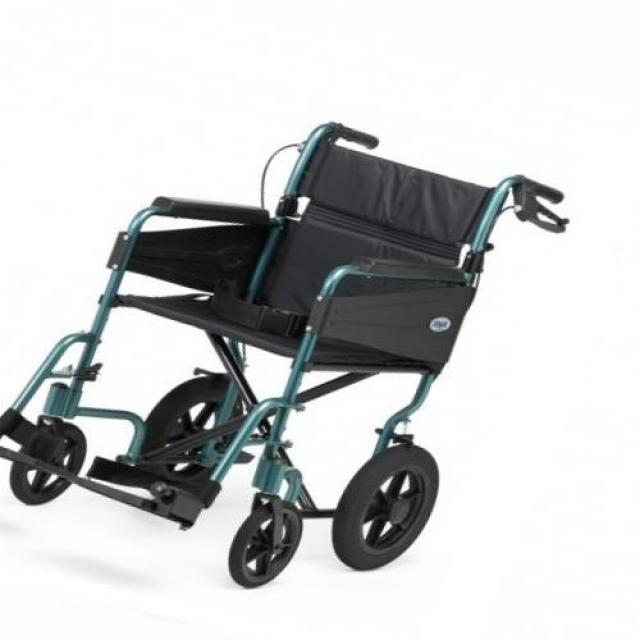wheelchair: (1, 101, 574, 594)
